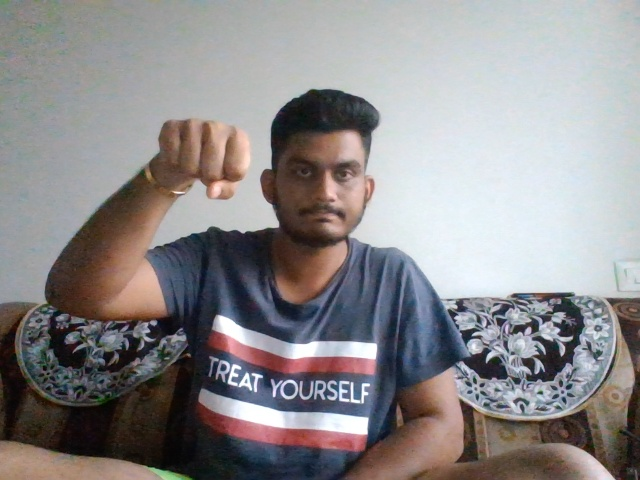Yes: (155, 108, 252, 201)
